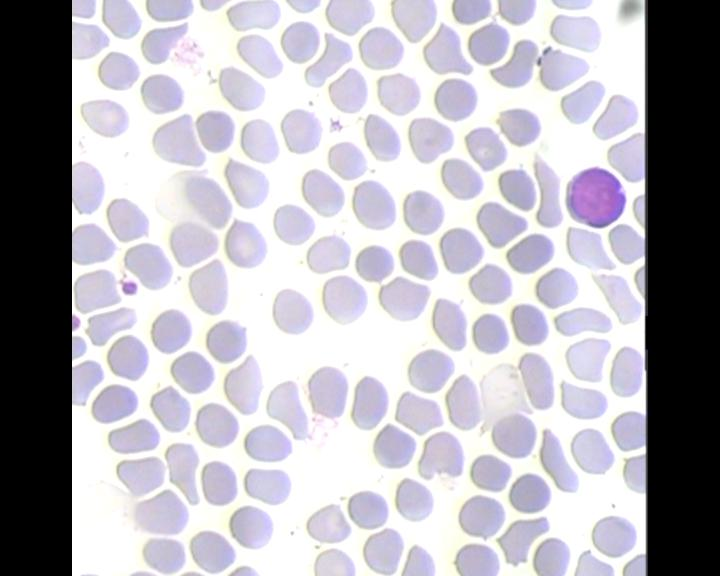lymp: (559, 159, 631, 231)
